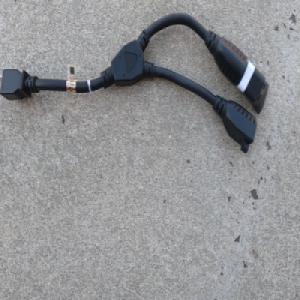Wire: (0, 11, 269, 153)
